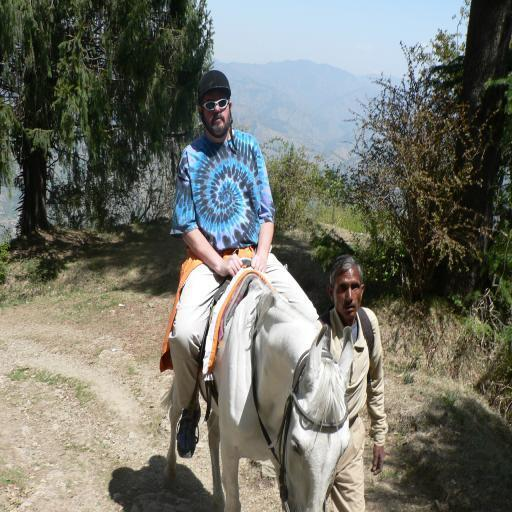horse: (158, 258, 354, 510)
